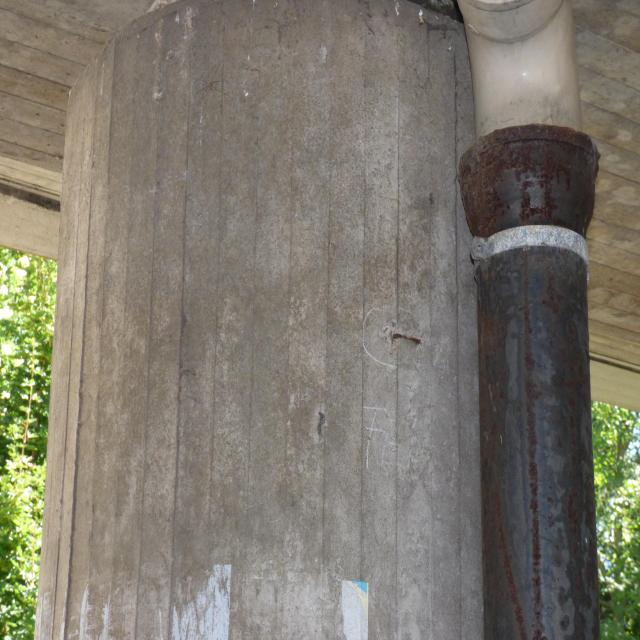Rebar: (382, 323, 450, 358)
